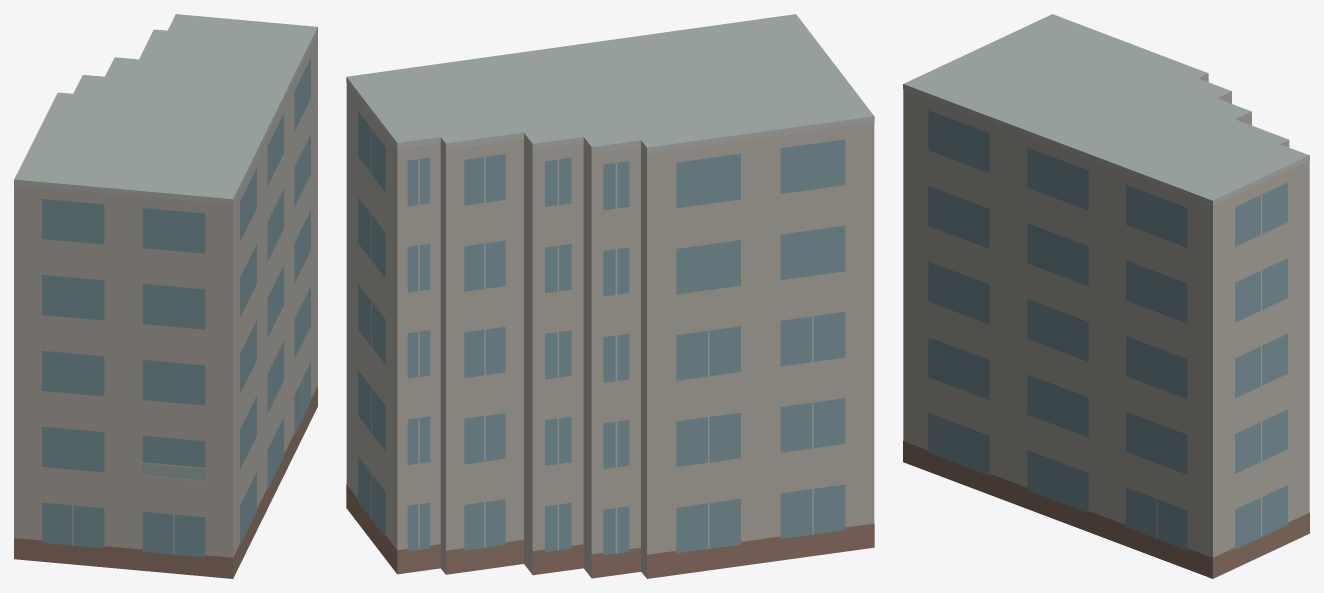
The model's file is survey-upis-32973417.glb.
3 renders of one model, left to right at view 1: azimuth 30°, elevation 25°; view 2: azimuth 150°, elevation 25°; view 3: azimuth 270°, elevation 25°, orthographic. The views are drawn at different scales.
Parts seen in each view (by area): view 1: survey-upis-32973417.tmp; view 2: survey-upis-32973417.tmp; view 3: survey-upis-32973417.tmp.
Boxes of the visible parts, x1=… form: survey-upis-32973417.tmp: x1=14, y1=14, x2=317, y2=578; survey-upis-32973417.tmp: x1=346, y1=14, x2=874, y2=578; survey-upis-32973417.tmp: x1=903, y1=14, x2=1309, y2=578.
Size of the model in its own units: 17.69 by 16.7 by 16.28.
